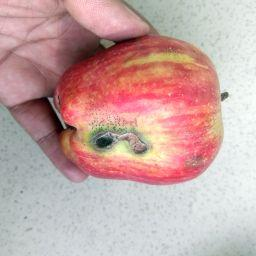apple: (34, 22, 256, 191)
